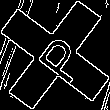P_NW: (24, 25, 86, 85)
